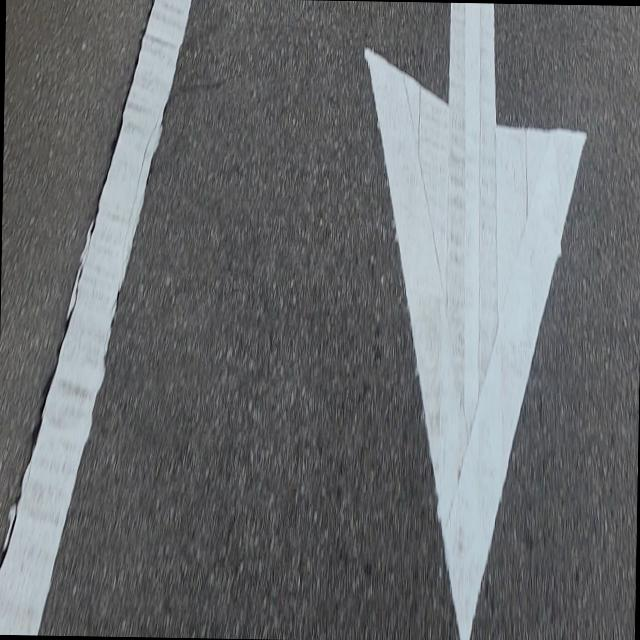Retak-Memanjang: (0, 0, 159, 582)
